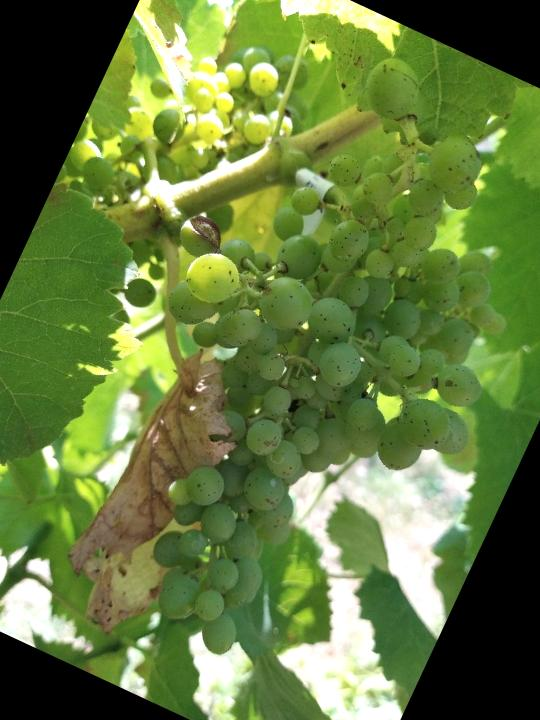grape: (20, 2, 540, 716)
